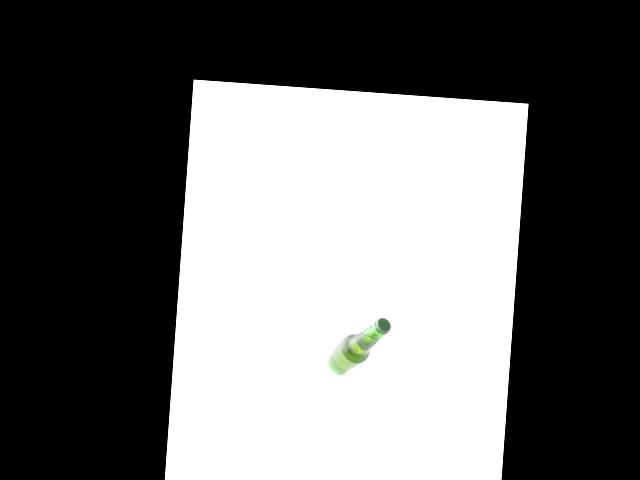beer: (327, 314, 391, 377)
